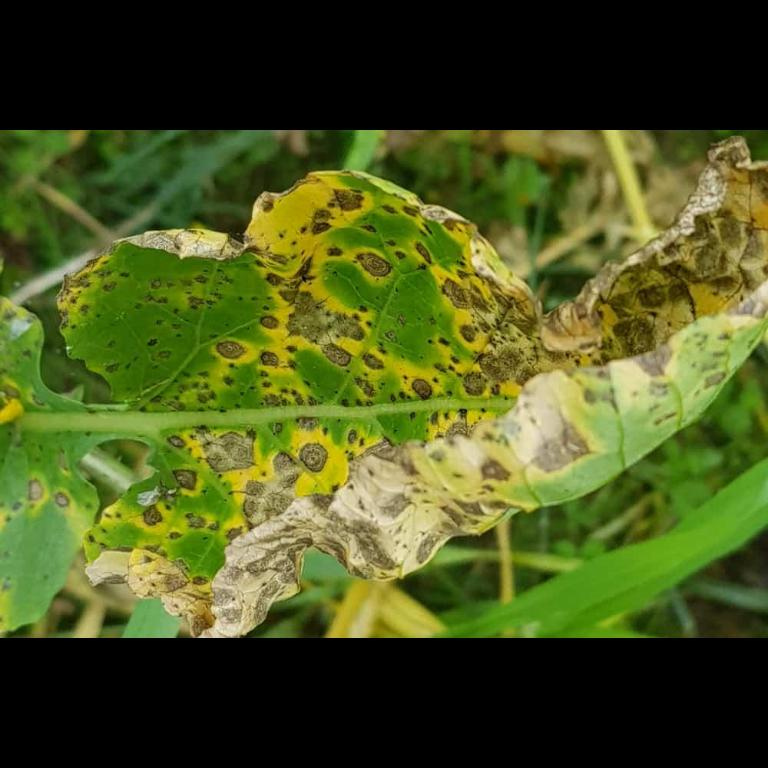blight: (448, 280, 538, 398)
